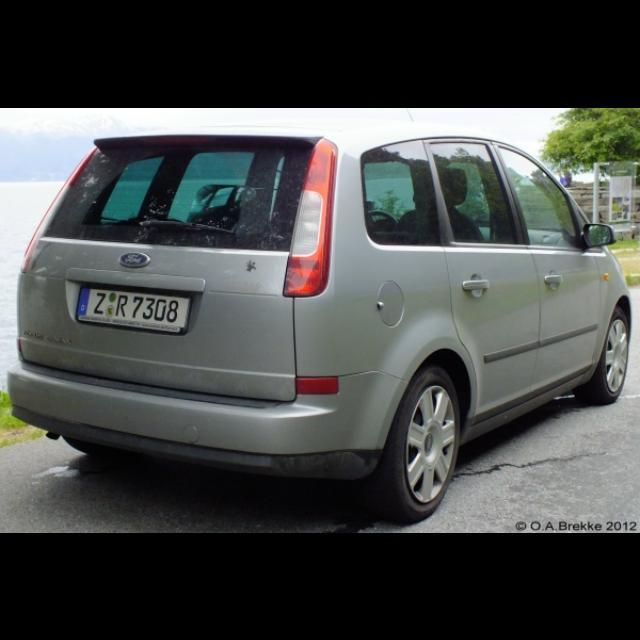license-plates: (76, 288, 188, 334)
